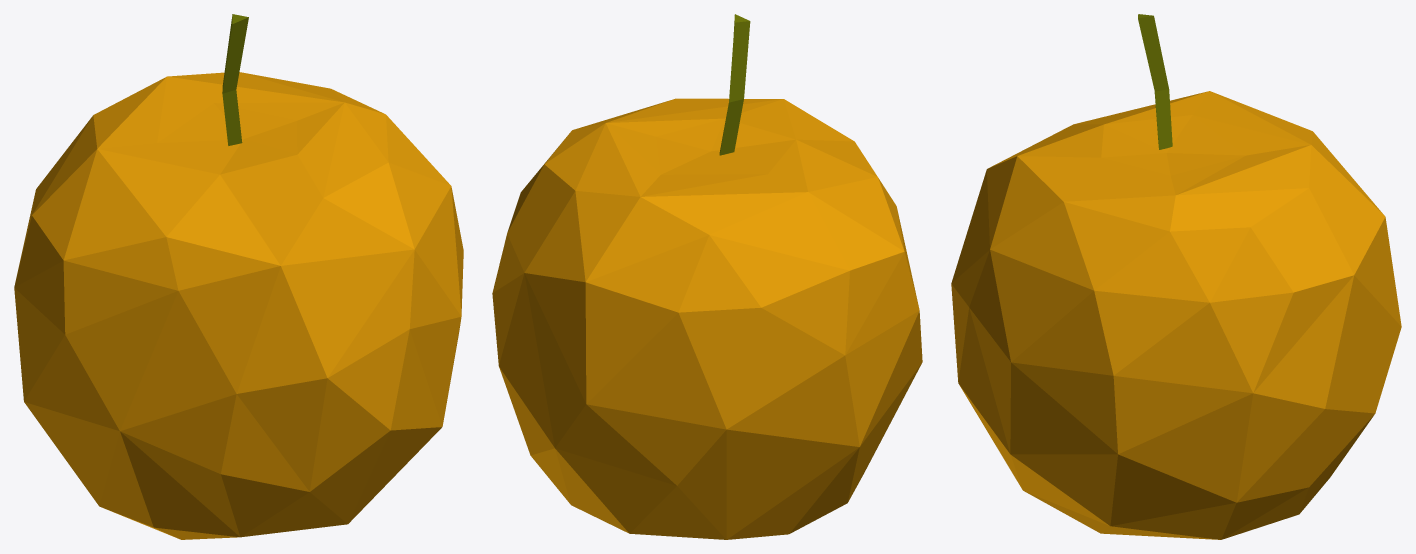
Rendered from Orange.glb.
The picture shows the model from 3 angles, left to right: view 1: azimuth 30°, elevation 25°; view 2: azimuth 150°, elevation 25°; view 3: azimuth 270°, elevation 25°; orthographic projection. The views are drawn at different scales.
Parts seen in each view (by area): view 1: Orange; view 2: Orange; view 3: Orange.
Boxes of the visible parts, box(x1,y1,x2,y2) form: Orange: box(14, 14, 463, 539); Orange: box(492, 14, 922, 539); Orange: box(951, 14, 1401, 539).
Size of the model in its own units: 0.1354 by 0.1638 by 0.1408.
